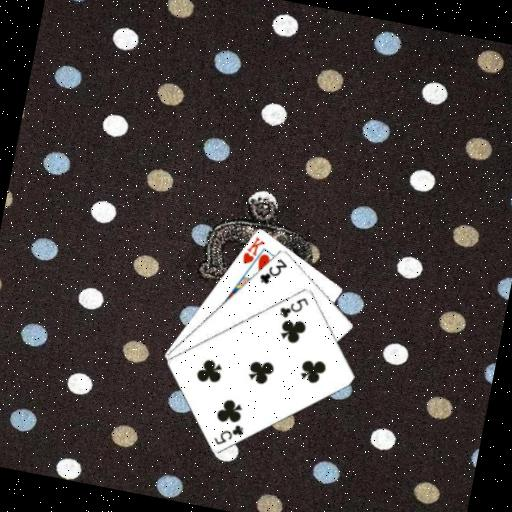3C: (255, 252, 290, 289)
5C: (210, 417, 247, 450), (275, 290, 311, 323)
KH: (238, 231, 268, 268)
